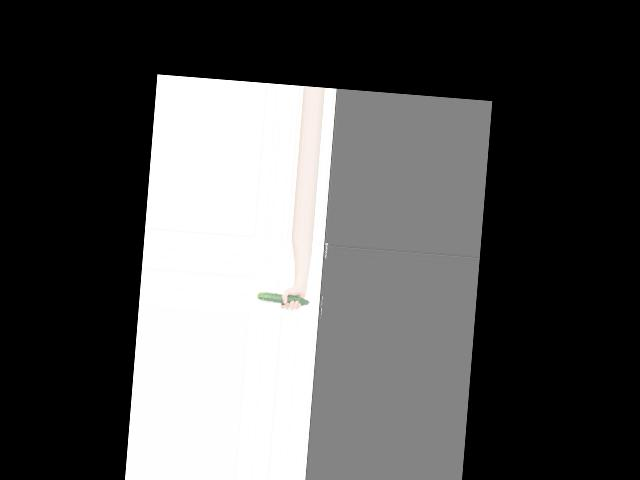cucumber: (257, 292, 310, 306)
